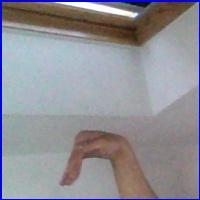del: (56, 126, 141, 192)
